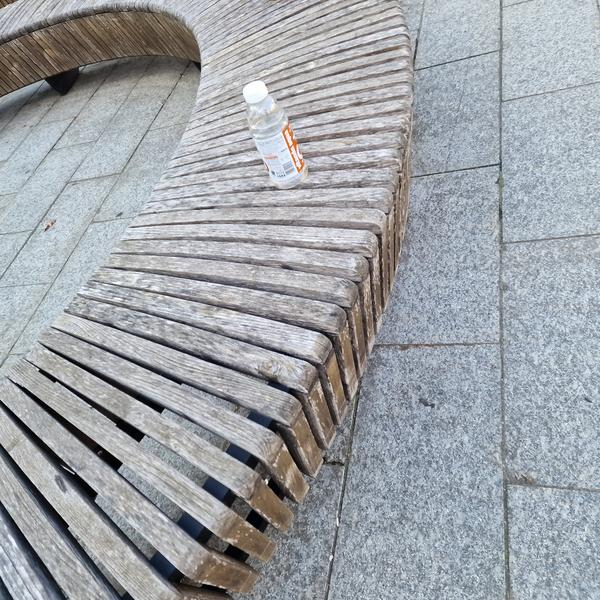plastic_bottle: (230, 73, 315, 197)
